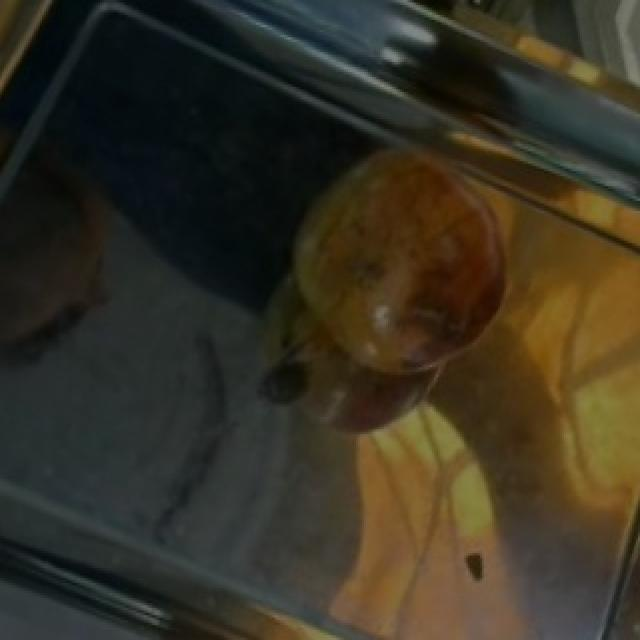fruit: (264, 114, 536, 402)
